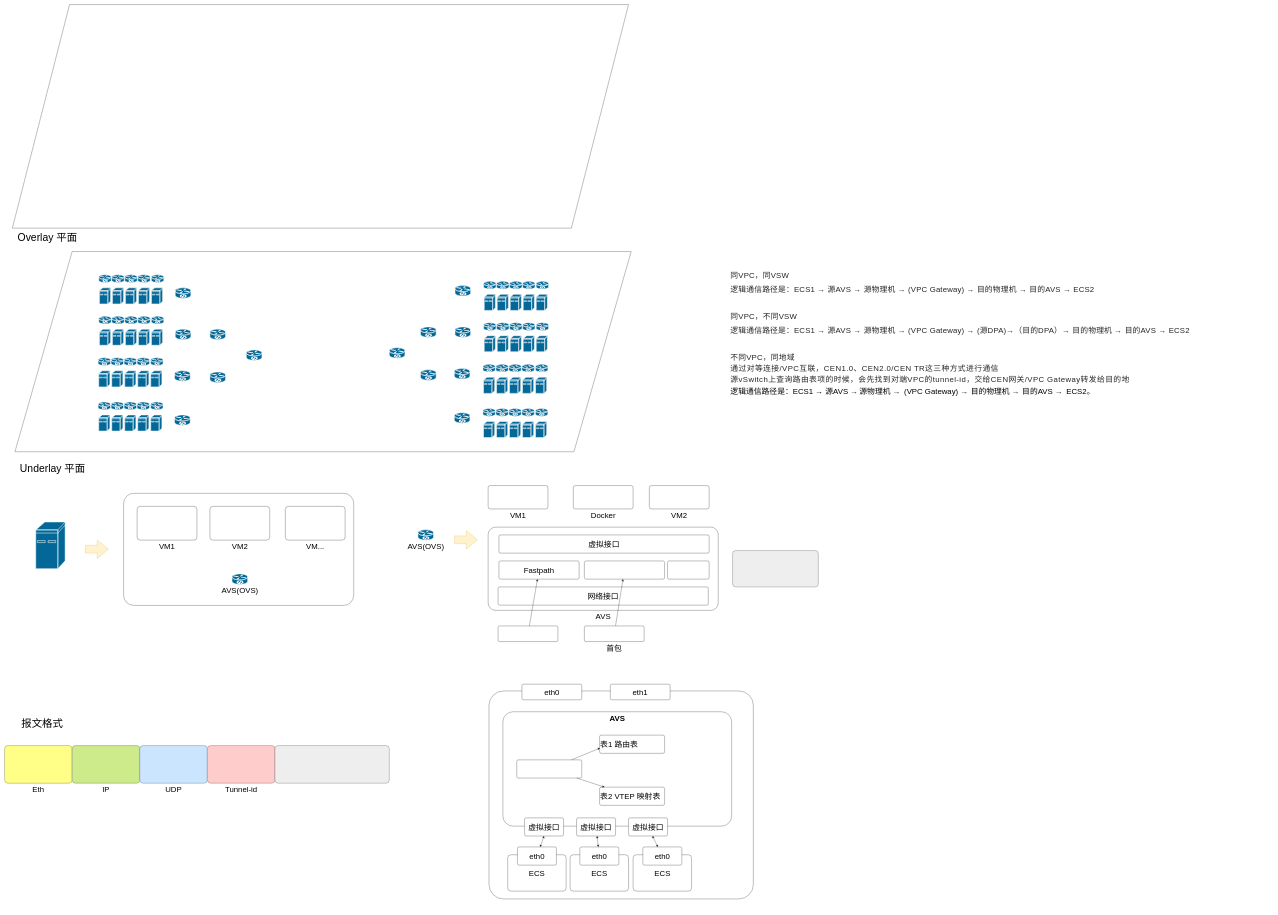
Some shapes in this 1278 by 915 pixel diagram are drawn without their labels. Each missing label, with the box of its shape:
Agent: (667, 561, 709, 579)
HOST: (123, 493, 354, 605)
Payload: (275, 745, 389, 783)
Slowpath: (584, 561, 665, 579)
查表: (516, 760, 582, 778)
物理机: (489, 691, 753, 899)
管控: (732, 550, 818, 587)
非首包: (498, 626, 558, 642)
